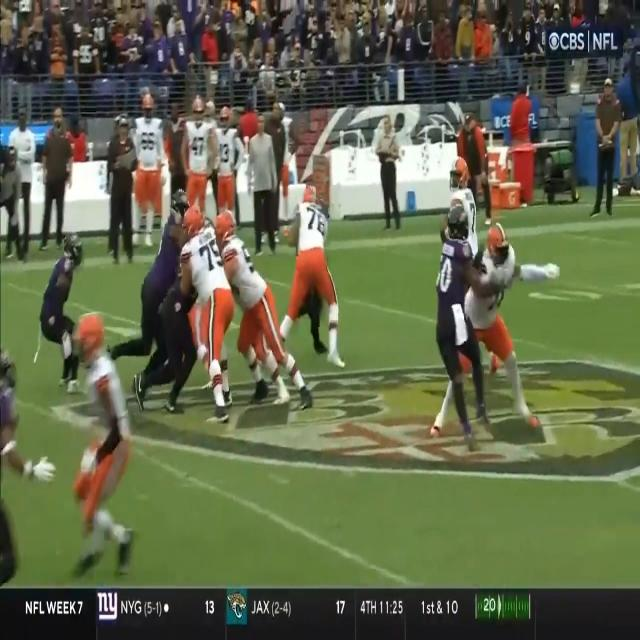players: (210, 208, 304, 416), (468, 207, 545, 448), (425, 190, 491, 449), (124, 190, 197, 414), (280, 175, 350, 385), (175, 204, 240, 420), (74, 309, 126, 579), (0, 343, 34, 586), (36, 235, 88, 389)
